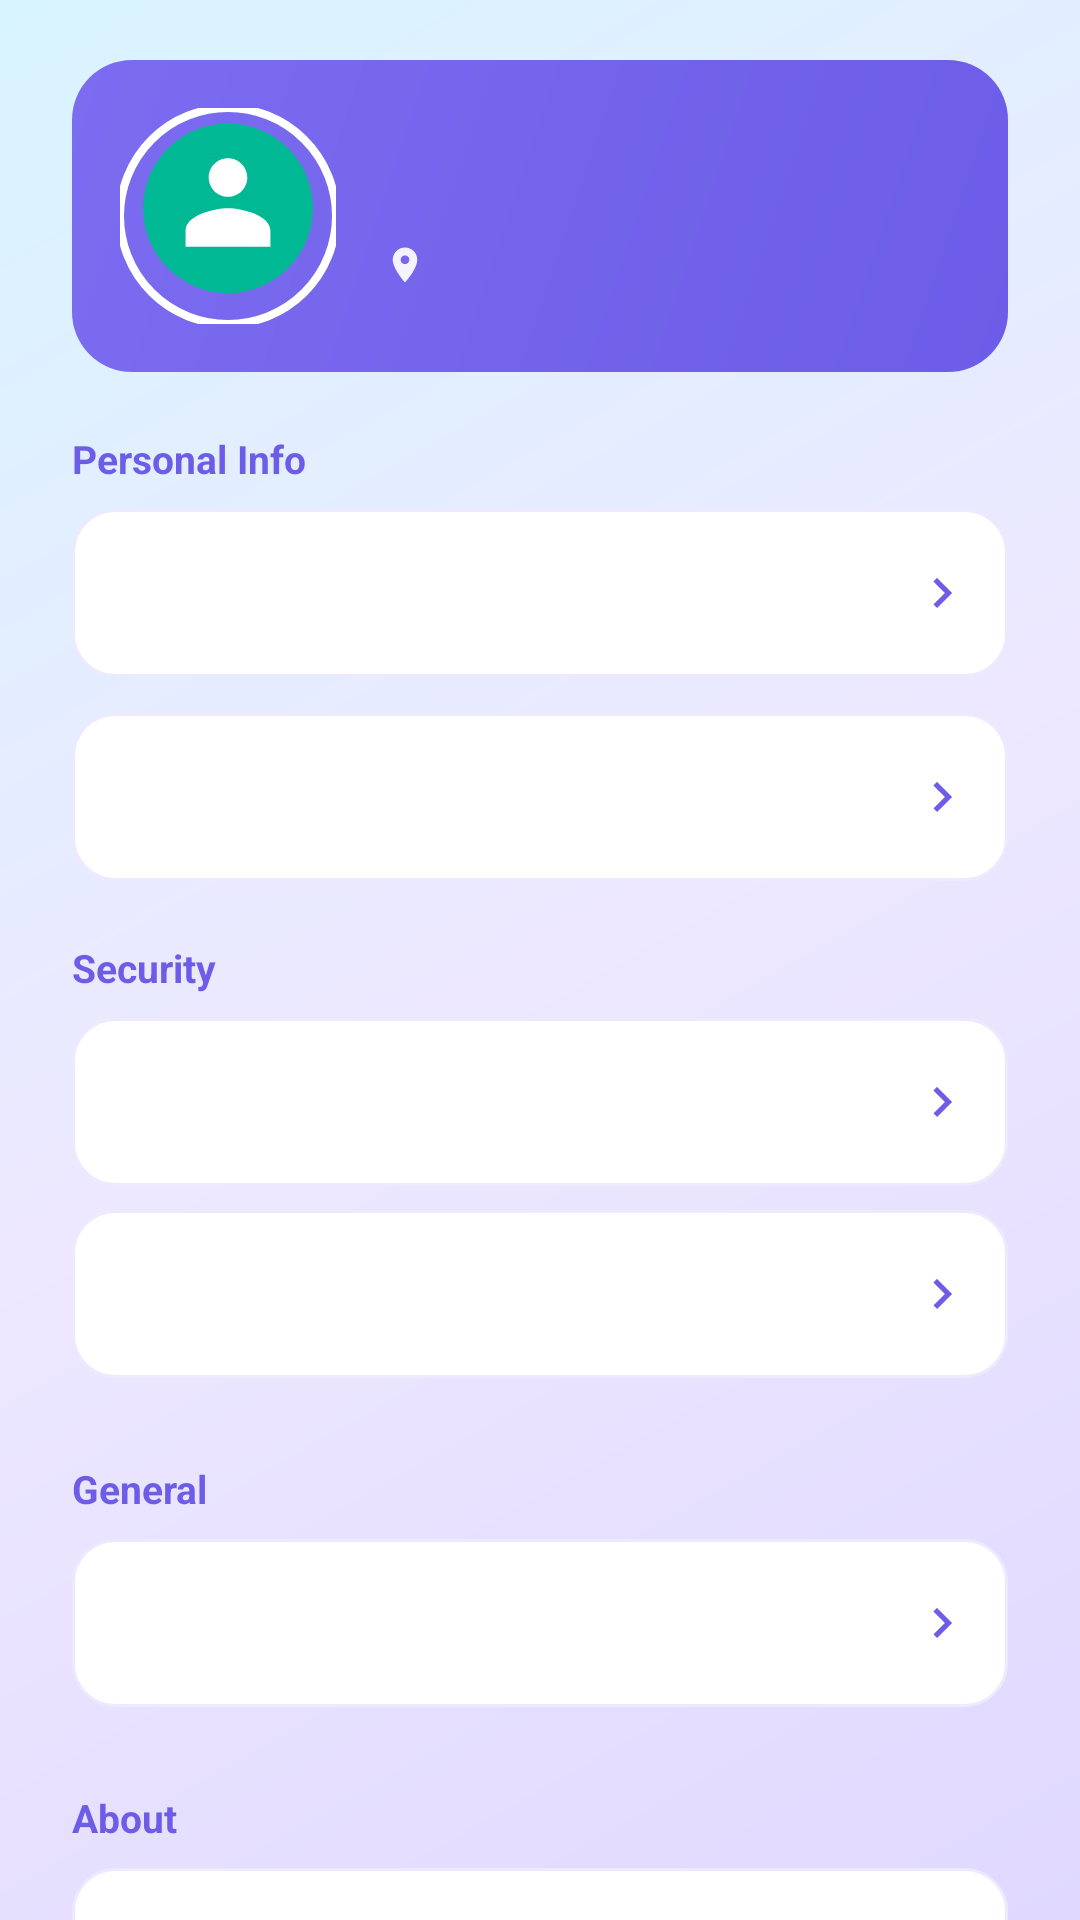

Point at icon controls on the screen. Image size 1080×1920, points as (x=x, y=y).
chevron right: (x=942, y=593), (x=942, y=797), (x=942, y=1102), (x=942, y=1294), (x=942, y=1623)
location: (x=405, y=264)
Profile: (x=228, y=216)
